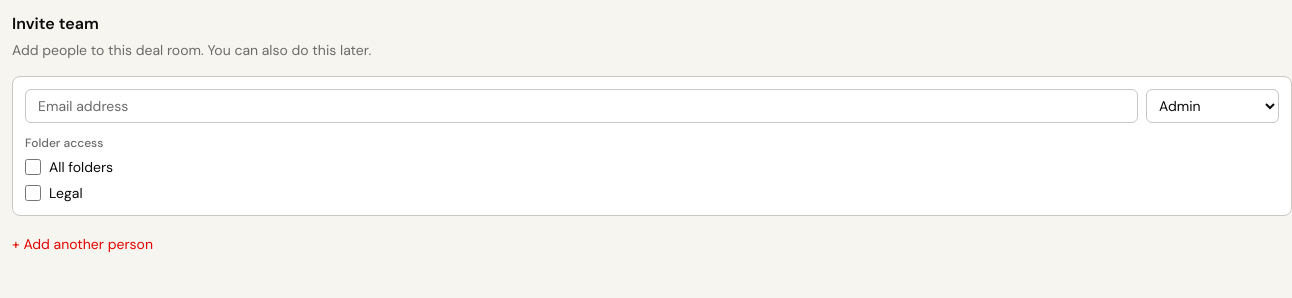
Test: StepInvite › shows inline error on 409 and returns false
Type "counterparty@example.com" into the field named "email address 1" at coordinates (582, 106), box [25,89,1138,123]
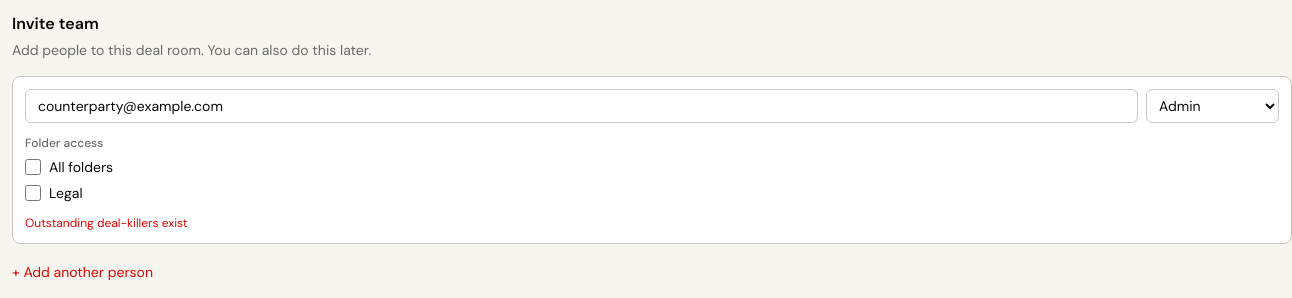
expect the text "Outstanding deal-killers exist" is shown: met, box [25,215,188,231]
